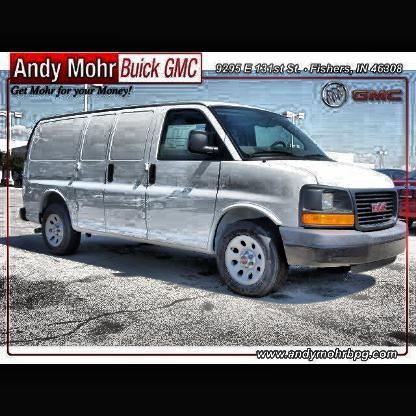GMC Savana Van 2012: (19, 104, 410, 296)
